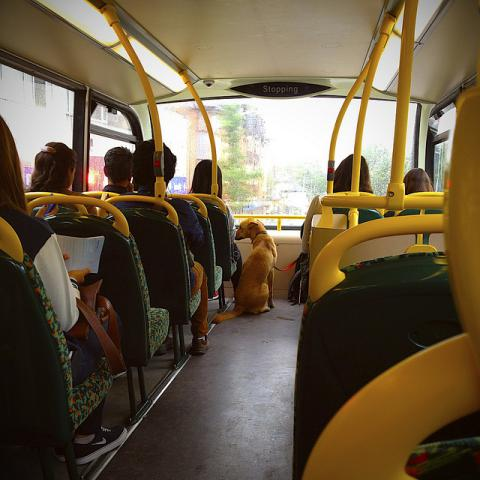bus: (3, 1, 479, 472)
